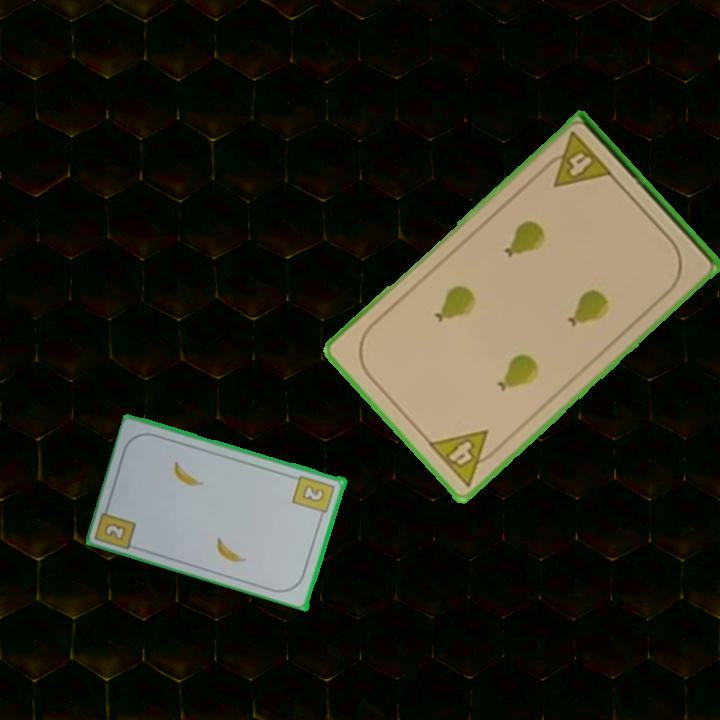2b: (290, 471, 338, 521), (101, 519, 129, 543)
4p: (424, 426, 505, 490), (537, 128, 616, 191)
